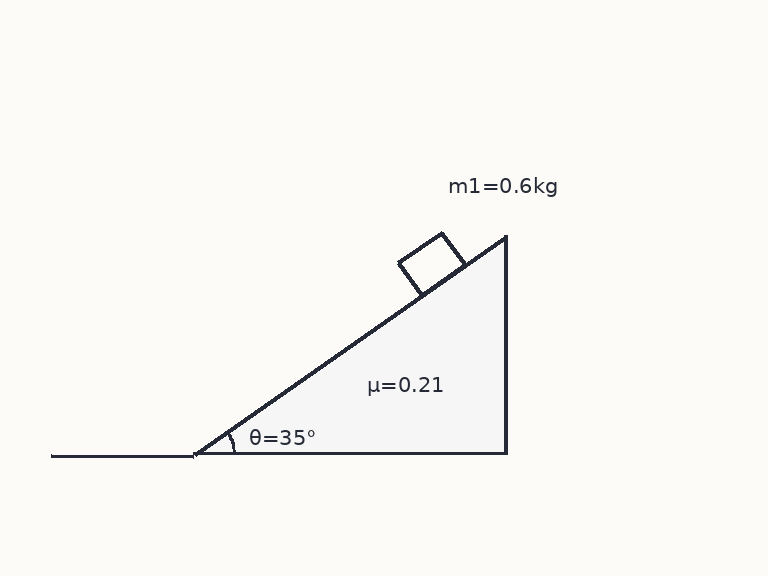block: (397, 230, 467, 297)
ramp: (192, 234, 507, 456)
